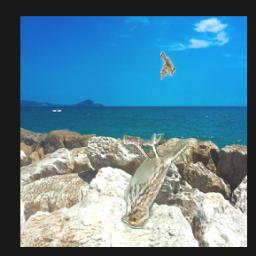Sparrow: (121, 133, 189, 229), (160, 51, 176, 80)
